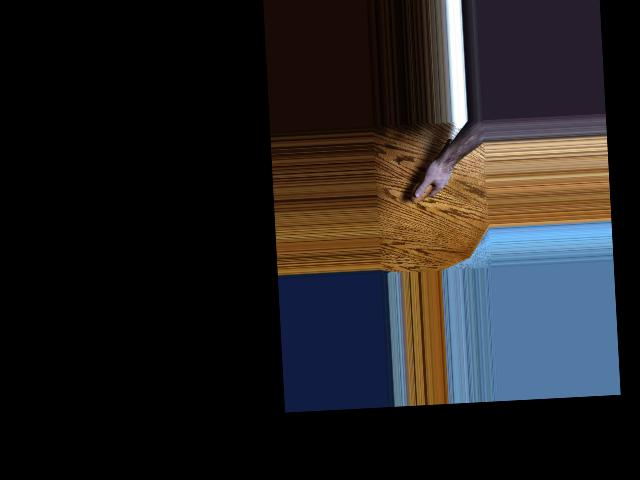sweet_potato: (407, 135, 460, 204)
